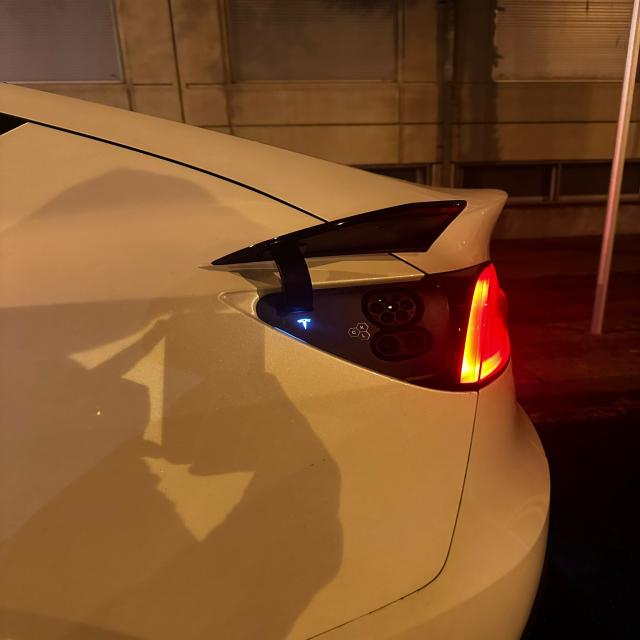inlet: (368, 292, 416, 325)
inlet-above-left: (376, 295, 387, 303)
inlet-above-right: (392, 294, 401, 301)
inlet-below-left: (380, 312, 395, 323)
inlet-below-right: (396, 310, 409, 321)
inlet-circle: (385, 301, 399, 312)
inlet-circle-left: (370, 303, 384, 314)
inlet-circle-right: (400, 300, 414, 310)
inlet-minus: (403, 333, 424, 351)
inlet-plus: (378, 336, 400, 354)
